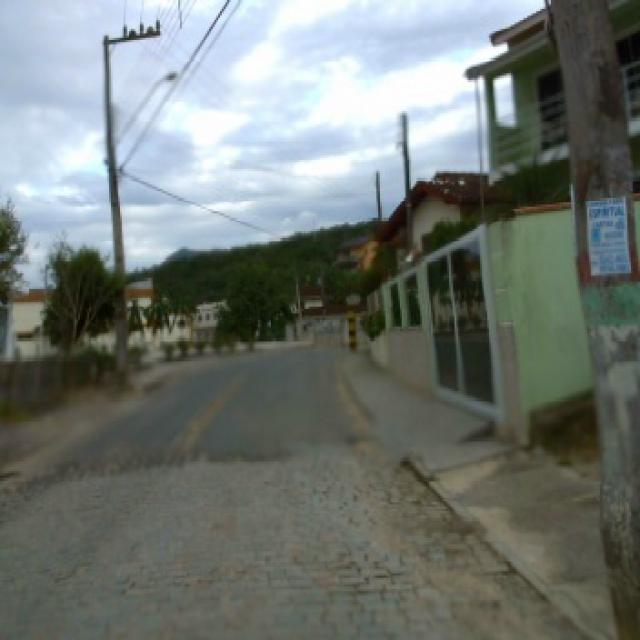Poth-hole: (18, 444, 289, 489), (340, 426, 375, 444), (0, 467, 22, 480)
